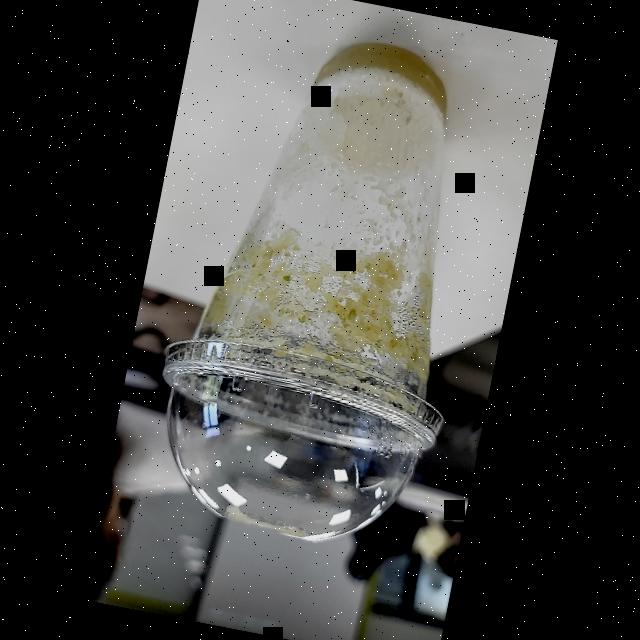plastic_cup: (134, 9, 516, 565)
plastic_cup_lid: (133, 328, 454, 564)
